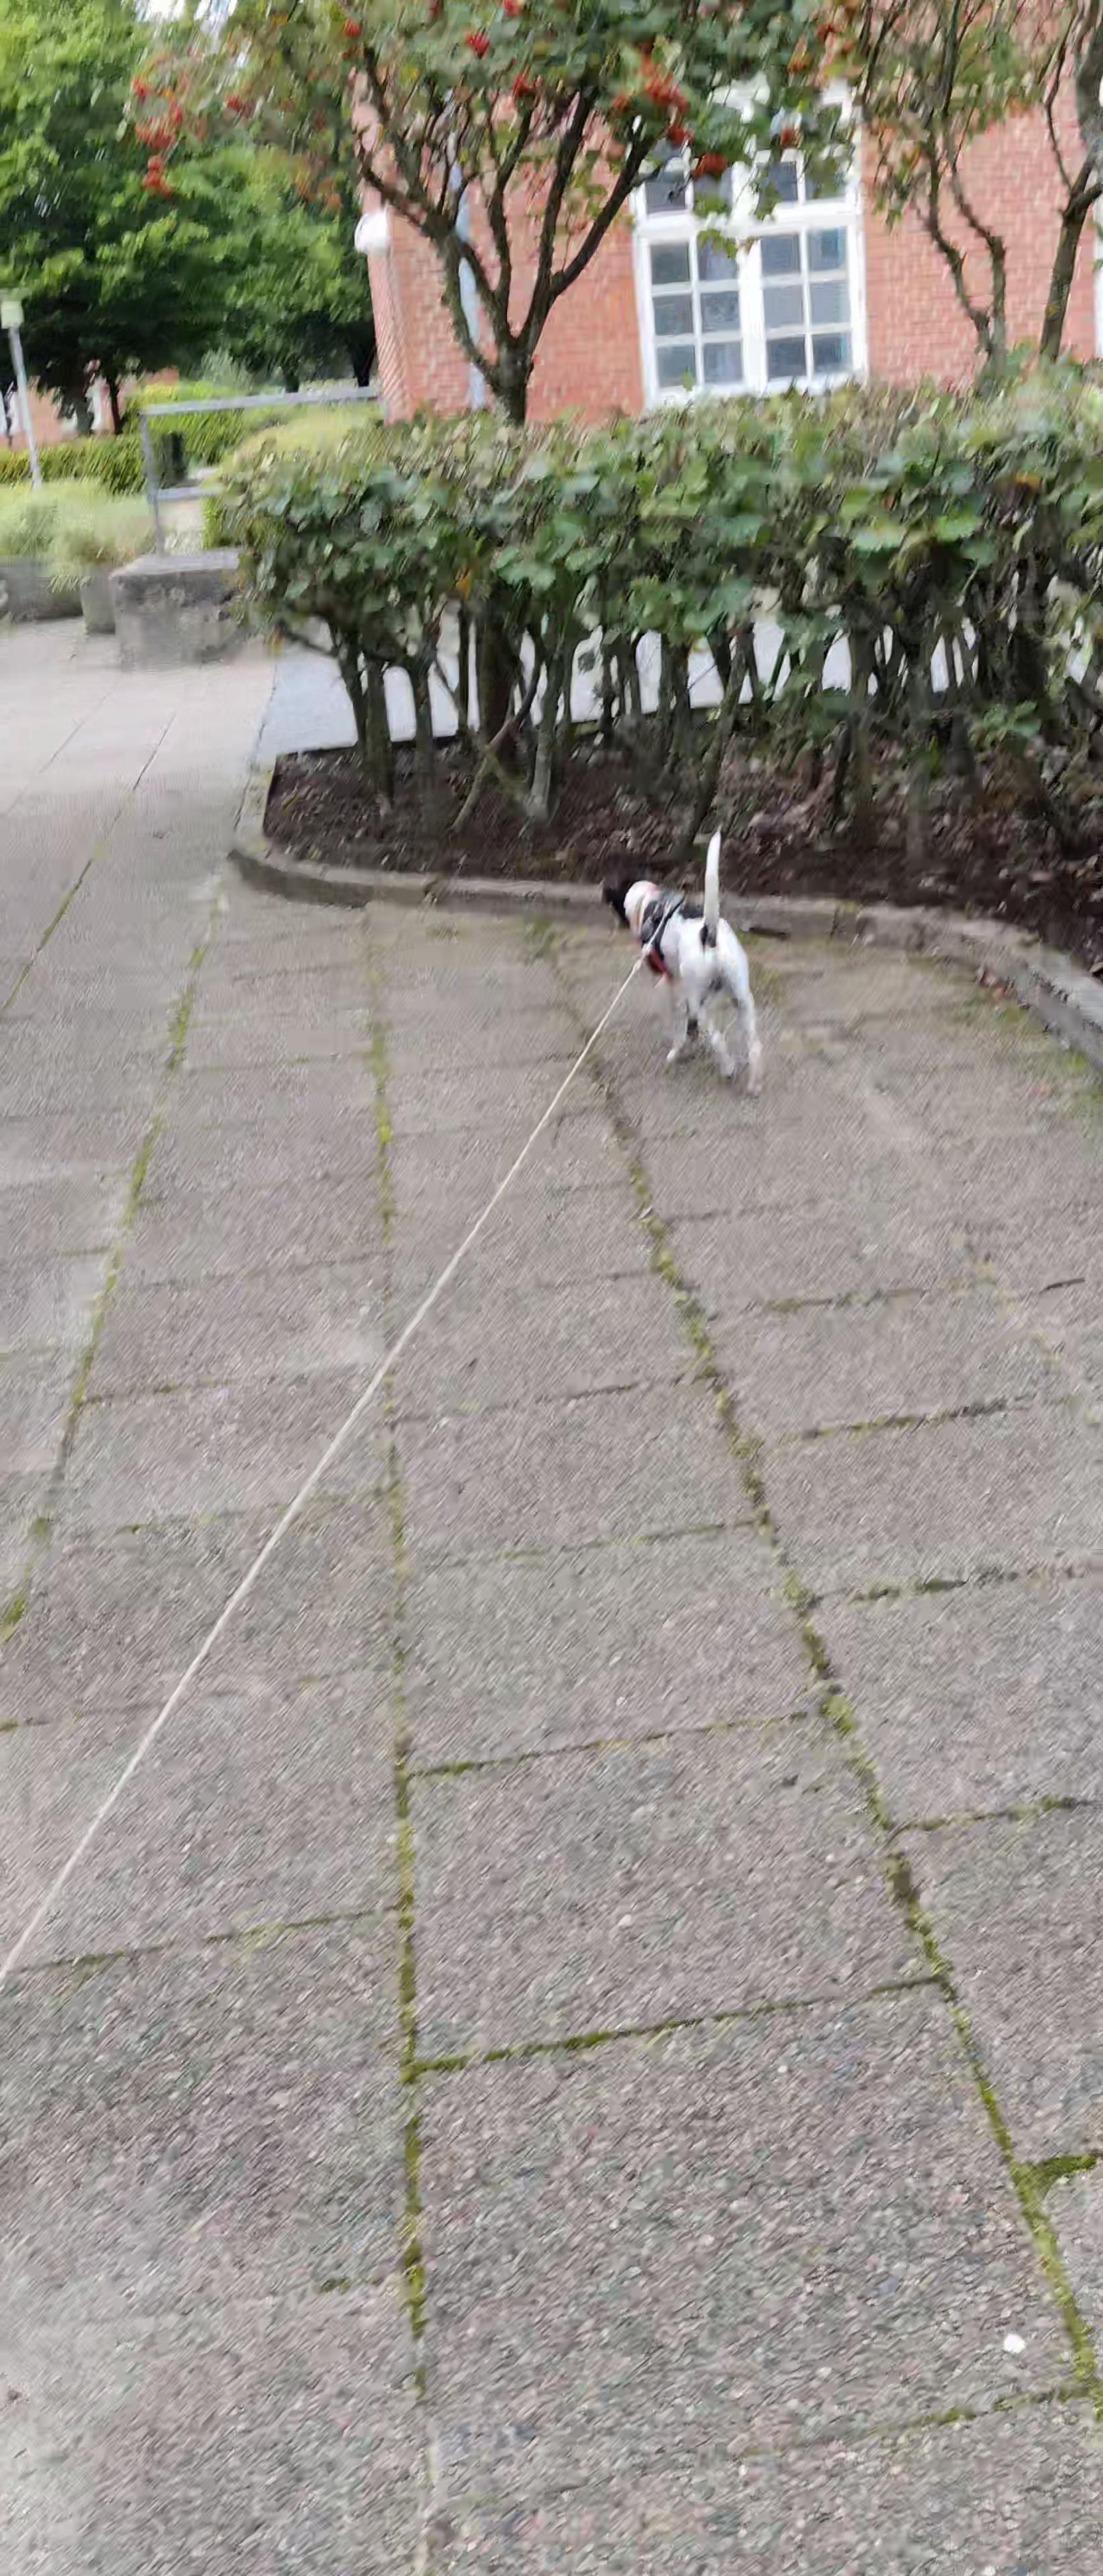Dog: (587, 813, 776, 1104)
